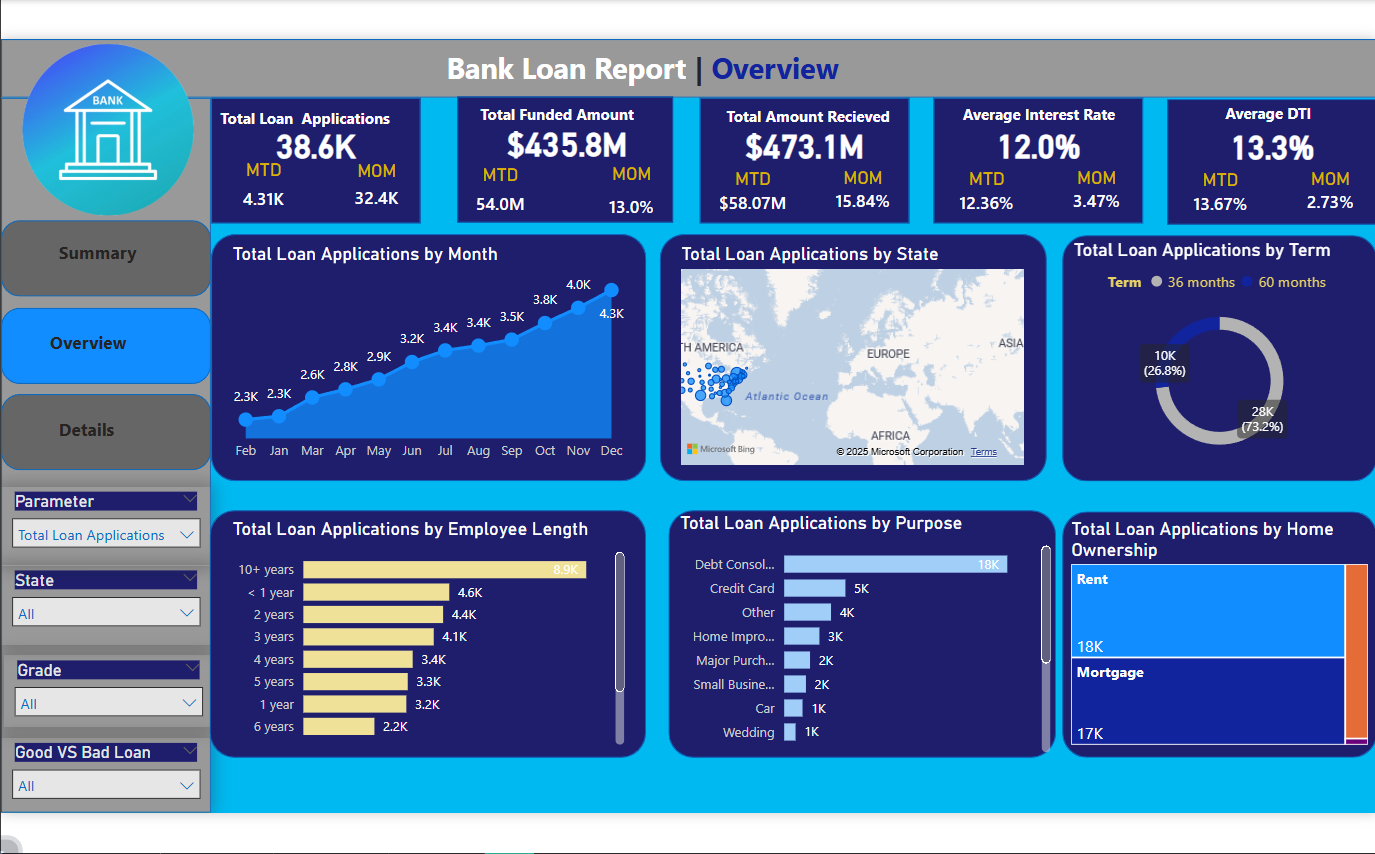

This screenshot's page, from the dashboard's own definition file:
{"tool":"powerbi","page":{"name":"Overview","canvas":[1280,720],"ordinal":1},"visuals":[{"type":"shape","box":[0,54.7,195.3,665.1],"z":0},{"type":"shape","box":[195.3,54.7,195,117],"z":0,"group":"g1"},{"type":"shape","box":[650,54.7,195,117],"z":0,"group":"g2"},{"type":"shape","box":[867.4,54.7,195,117],"z":0,"group":"g3"},{"type":"shape","box":[1084.9,55.8,195,117],"z":0,"group":"g4"},{"type":"card","fields":{"Values":["banking.Total Loan Applications"]},"box":[220.9,73.3,144.2,50],"z":1000,"group":"g1"},{"type":"card","fields":{"Values":["banking.Total Amount Recieved"]},"box":[675.6,73.3,144.2,50],"z":1000,"group":"g2"},{"type":"card","fields":{"Values":["banking.Average Int rate"]},"box":[893,73.3,144.2,50],"z":1000,"group":"g3"},{"type":"card","fields":{"Values":["banking.Average DTI"]},"box":[1110.5,74.4,144.2,50],"z":1000,"group":"g4"},{"type":"shape","box":[195,181.2,405,230],"z":1000},{"type":"textbox","box":[805,195,145,33.8],"z":1000,"group":"g5"},{"type":"shape","box":[0,0,1280.2,54.7],"z":2000},{"type":"textbox","box":[1133.4,54.7,114,34.9],"z":2000,"group":"g4"},{"type":"textbox","box":[889.1,55.3,177.9,40.7],"z":2000,"group":"g3"},{"type":"textbox","box":[669.7,56.9,177.9,40.7],"z":2000,"group":"g2"},{"type":"textbox","box":[198.6,58.9,191.2,37.5],"z":2000,"group":"g1"},{"type":"shape","box":[424.4,53.5,201.2,117.4],"z":3000},{"type":"card","title":"MTD","fields":{"Values":["banking.MTD Loan Applications"]},"box":[210,112.1,67.4,58.1],"z":3000,"group":"g1"},{"type":"card","title":"MTD","fields":{"Values":["banking.MTD Amount Recieved"]},"box":[660.4,119.8,77.9,50],"z":3000,"group":"g2"},{"type":"card","title":"MTD","fields":{"Values":["banking.MTD Int Rate"]},"box":[877.8,119.8,77.9,50],"z":3000,"group":"g3"},{"type":"card","title":"MTD","fields":{"Values":["banking.MTD DTI"]},"box":[1095.3,120.9,77.9,50],"z":3000,"group":"g4"},{"type":"card","fields":{"Values":["banking.Total funded amount"]},"box":[440.7,64,172.1,65.1],"z":4000},{"type":"card","title":"MOM","fields":{"Values":["banking.MOM Amount Recieved"]},"box":[759.2,118.5,84.9,48.8],"z":4000,"group":"g2"},{"type":"card","title":"MOM","fields":{"Values":["banking.MOM Int Rate"]},"box":[976.6,118.5,84.9,48.8],"z":4000,"group":"g3"},{"type":"card","title":"MOM","fields":{"Values":["banking.MOM DTI"]},"box":[1194.1,119.6,84.9,48.8],"z":4000,"group":"g4"},{"type":"textbox","box":[409.3,3.5,439.5,50],"z":5000},{"type":"textbox","box":[440.7,55.8,170.9,36],"z":6000},{"type":"group","id":"g1","title":"Group 1","box":[195.3,54.7,195,117],"z":7000},{"type":"card","title":"MTD","fields":{"Values":["banking.MTD Funded Amount"]},"box":[424.4,116.3,80.2,59.3],"z":8000},{"type":"card","title":"MOM","fields":{"Values":["banking.MOM Funded Amount"]},"box":[547.7,115.1,77.9,67.4],"z":9000},{"type":"card","title":"MOM","fields":{"Values":["banking.MOM Applications"]},"box":[317.4,112.8,64,54.7],"z":10000},{"type":"group","id":"g2","title":"Group 1","box":[650,54.7,197.7,117.4],"z":11000},{"type":"group","id":"g3","title":"Group 1","box":[867.4,54.7,200,117.4],"z":12000},{"type":"group","id":"g4","title":"Group 1","box":[1084.9,54.7,195.3,118.6],"z":13000},{"type":"group","id":"g5","title":"Group 2","box":[805,195,145,33.8],"z":14000},{"type":"textbox","box":[220,471.2,130,37.5],"z":15000},{"type":"slicer","fields":{"Values":["banking.address_state"]},"box":[0,489.5,195.3,74.4],"z":16000},{"type":"slicer","fields":{"Values":["banking.grade"]},"box":[2.3,573.3,195.3,67.4],"z":17000},{"type":"slicer","fields":{"Values":["banking.Good vs bad loan"]},"box":[0,650,195.3,68.6],"z":18000},{"type":"areaChart","fields":{"Y":["banking.Total Loan Applications"],"Category":["Date.month"]},"box":[210,190,375,211.2],"z":19000},{"type":"slicer","fields":{"Values":["Parameter.Parameter"]},"box":[0,416.3,195.3,73.3],"z":20000},{"type":"shape","box":[612.5,181.2,360,230],"z":21000},{"type":"map","fields":{"Size":["banking.Total Loan Applications"],"Category":["banking.address_state"]},"box":[627.5,190,328.8,211.2],"z":22000},{"type":"shape","box":[987.2,182.6,293,229.1],"z":23000},{"type":"shape","box":[194.2,438.4,405.8,230.2],"z":24000},{"type":"shape","box":[620.9,438.4,360.5,230.2],"z":25000},{"type":"donutChart","fields":{"Y":["banking.Total Loan Applications"],"Category":["banking.term"]},"box":[993,186,281.4,215.1],"z":26000},{"type":"barChart","fields":{"Y":["banking.Total Loan Applications"],"Category":["banking.emp_length"]},"box":[210.5,445.4,374.4,216.3],"z":27000},{"type":"barChart","fields":{"Y":["banking.Total Loan Applications"],"Category":["banking.purpose"]},"box":[626.7,439.5,354.7,229.1],"z":28000},{"type":"shape","box":[987.2,439.5,293,229.1],"z":29000},{"type":"treemap","fields":{"Values":["banking.Total Loan Applications"],"Group":["banking.home_ownership"]},"box":[990.7,445.4,286,216.3],"z":30000},{"type":"shape","box":[0,168.6,195.3,70.9],"z":31000},{"type":"shape","box":[0,330.2,195.3,70.9],"z":32000},{"type":"shape","box":[0,250,195.3,70.9],"z":33000},{"type":"image","box":[0,0,198.8,168.6],"z":34000},{"type":"textbox","box":[48.8,182.6,97.7,38.4],"z":35000},{"type":"textbox","box":[40.7,266.3,105.8,38.4],"z":36000},{"type":"textbox","box":[48.8,346.5,120.9,40.7],"z":37000},{"type":"shape","box":[15.1,167.4,154.7,72.1],"z":38000},{"type":"shape","box":[15.1,330.2,162.8,70.9],"z":39000}]}

Visuals, with their boxes on the page's 1280x720 design canvas (x1, y1, x2, y2). These are canvas units, not pixel positions in the 1375x854 screenshot, which may show the page scaled, cropped or inside an application window:
shape: (left=0, top=55, right=195, bottom=720)
shape: (left=195, top=55, right=390, bottom=172)
shape: (left=650, top=55, right=845, bottom=172)
shape: (left=867, top=55, right=1062, bottom=172)
shape: (left=1085, top=56, right=1280, bottom=173)
card - banking.Total Loan Applications: (left=221, top=73, right=365, bottom=123)
card - banking.Total Amount Recieved: (left=676, top=73, right=820, bottom=123)
card - banking.Average Int rate: (left=893, top=73, right=1037, bottom=123)
card - banking.Average DTI: (left=1110, top=74, right=1255, bottom=124)
shape: (left=195, top=181, right=600, bottom=411)
textbox: (left=805, top=195, right=950, bottom=229)
shape: (left=0, top=0, right=1280, bottom=55)
textbox: (left=1133, top=55, right=1247, bottom=90)
textbox: (left=889, top=55, right=1067, bottom=96)
textbox: (left=670, top=57, right=848, bottom=98)
textbox: (left=199, top=59, right=390, bottom=96)
shape: (left=424, top=54, right=626, bottom=171)
"MTD" card: (left=210, top=112, right=277, bottom=170)
"MTD" card: (left=660, top=120, right=738, bottom=170)
"MTD" card: (left=878, top=120, right=956, bottom=170)
"MTD" card: (left=1095, top=121, right=1173, bottom=171)
card - banking.Total funded amount: (left=441, top=64, right=613, bottom=129)
"MOM" card: (left=759, top=118, right=844, bottom=167)
"MOM" card: (left=977, top=118, right=1062, bottom=167)
"MOM" card: (left=1194, top=120, right=1279, bottom=168)
textbox: (left=409, top=4, right=849, bottom=54)
textbox: (left=441, top=56, right=612, bottom=92)
"Group 1" group: (left=195, top=55, right=390, bottom=172)
"MTD" card: (left=424, top=116, right=505, bottom=176)
"MOM" card: (left=548, top=115, right=626, bottom=182)
"MOM" card: (left=317, top=113, right=381, bottom=168)
"Group 1" group: (left=650, top=55, right=848, bottom=172)
"Group 1" group: (left=867, top=55, right=1067, bottom=172)
"Group 1" group: (left=1085, top=55, right=1280, bottom=173)
"Group 2" group: (left=805, top=195, right=950, bottom=229)
textbox: (left=220, top=471, right=350, bottom=509)
slicer - banking.address_state: (left=0, top=490, right=195, bottom=564)
slicer - banking.grade: (left=2, top=573, right=198, bottom=641)
slicer - banking.Good vs bad loan: (left=0, top=650, right=195, bottom=719)
areaChart - banking.Total Loan Applications x Date.month: (left=210, top=190, right=585, bottom=401)
slicer - Parameter.Parameter: (left=0, top=416, right=195, bottom=490)
shape: (left=612, top=181, right=972, bottom=411)
map - banking.Total Loan Applications x banking.address_state: (left=628, top=190, right=956, bottom=401)
shape: (left=987, top=183, right=1280, bottom=412)
shape: (left=194, top=438, right=600, bottom=669)
shape: (left=621, top=438, right=981, bottom=669)
donutChart - banking.Total Loan Applications x banking.term: (left=993, top=186, right=1274, bottom=401)
barChart - banking.Total Loan Applications x banking.emp_length: (left=210, top=445, right=585, bottom=662)
barChart - banking.Total Loan Applications x banking.purpose: (left=627, top=440, right=981, bottom=669)
shape: (left=987, top=440, right=1280, bottom=669)
treemap - banking.Total Loan Applications x banking.home_ownership: (left=991, top=445, right=1277, bottom=662)
shape: (left=0, top=169, right=195, bottom=240)
shape: (left=0, top=330, right=195, bottom=401)
shape: (left=0, top=250, right=195, bottom=321)
image: (left=0, top=0, right=199, bottom=169)
textbox: (left=49, top=183, right=146, bottom=221)
textbox: (left=41, top=266, right=146, bottom=305)
textbox: (left=49, top=346, right=170, bottom=387)
shape: (left=15, top=167, right=170, bottom=240)
shape: (left=15, top=330, right=178, bottom=401)
